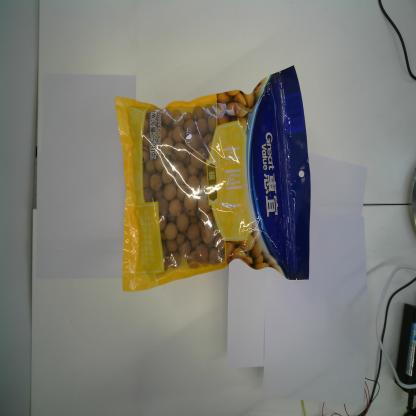Dried Food: (114, 65, 311, 292)
